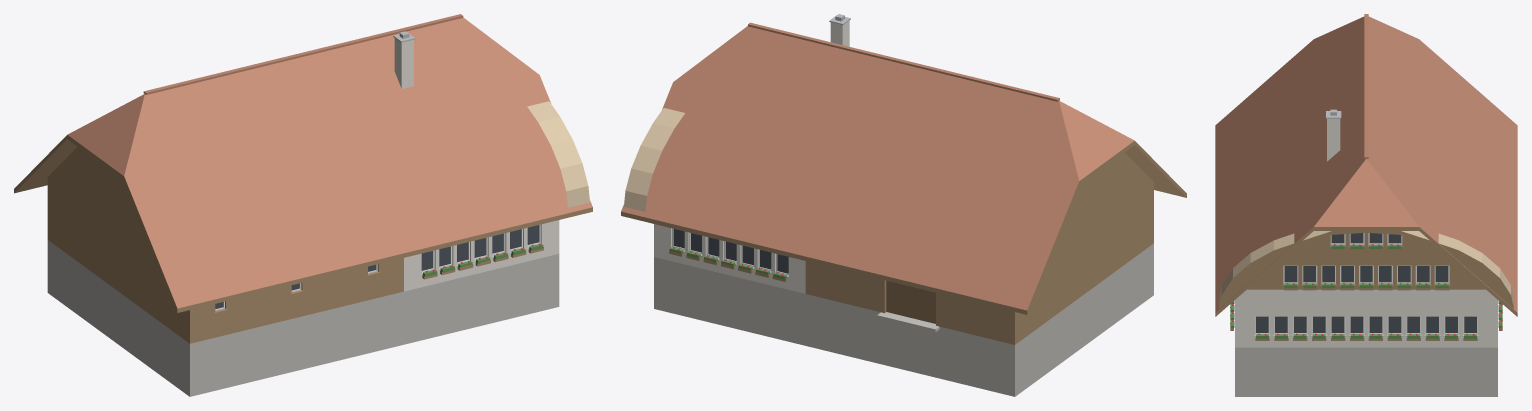
File: farmhouse_l.glb
The picture shows the model from 3 angles, left to right: view 1: azimuth 30°, elevation 25°; view 2: azimuth 150°, elevation 25°; view 3: azimuth 270°, elevation 25°; orthographic projection. The views are drawn at different scales.
Parts seen in each view (by area): view 1: farmhouse_l; view 2: farmhouse_l; view 3: farmhouse_l.
Boxes of the visible parts, x1,y1,x2,y2 form: farmhouse_l: (14, 14, 592, 396); farmhouse_l: (621, 14, 1186, 396); farmhouse_l: (1215, 14, 1517, 396).
Size of the model in its own units: 27 by 16.11 by 18.4.
